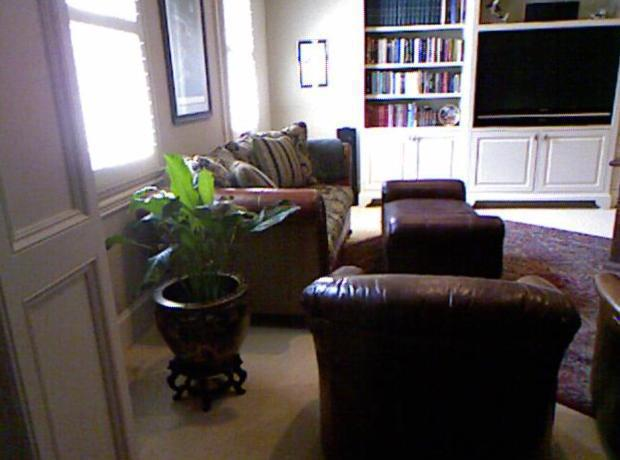Matera: (121, 159, 298, 412)
